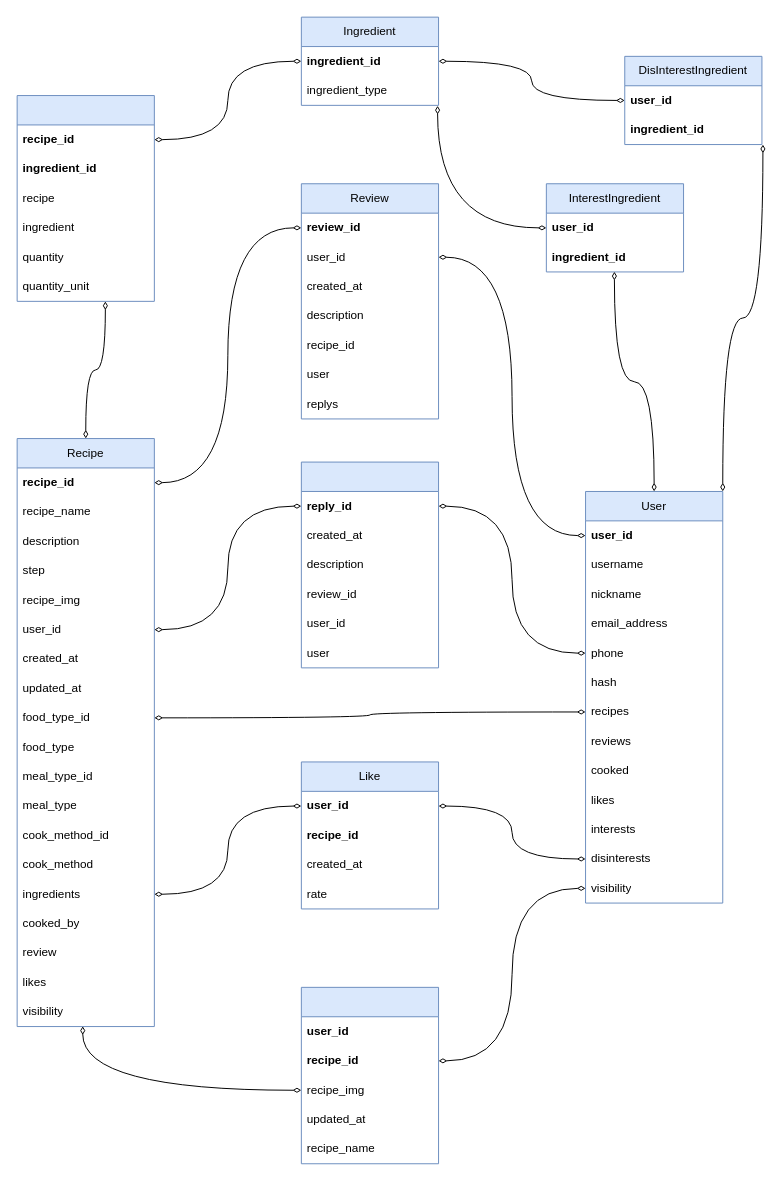
Some shapes in this 783 by 1181 pixel diagram are drawn without their labels. Each missing label, with the box of its shape:
IngredientAssociation: (16, 95, 154, 301)
News: (300, 986, 439, 1164)
ReviewReply: (300, 461, 439, 668)
